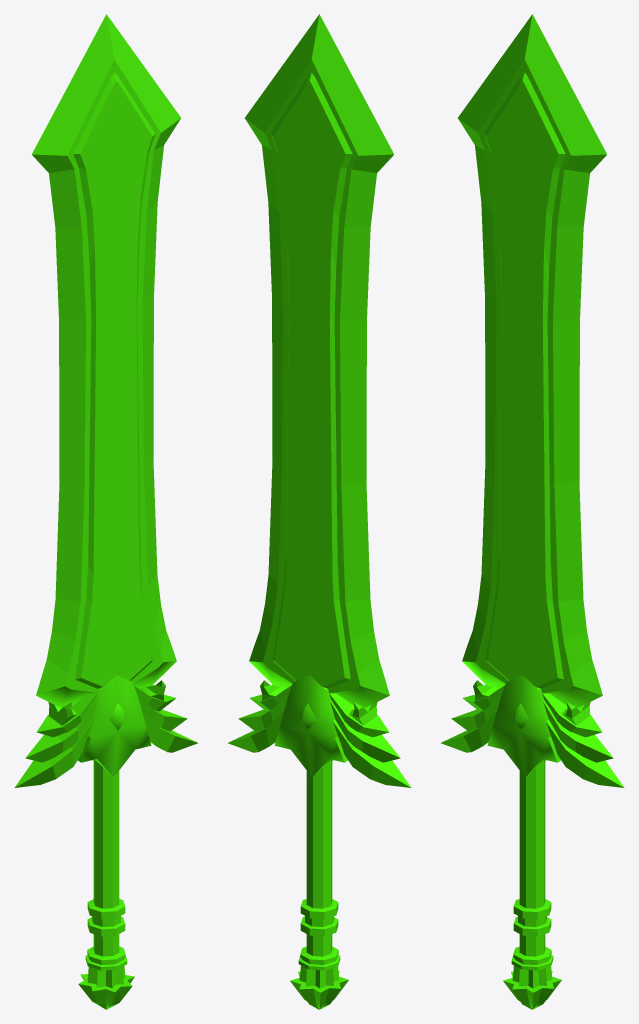
File: pandaSword.fbx
3 renders of one model, left to right at view 1: azimuth 30°, elevation 25°; view 2: azimuth 150°, elevation 25°; view 3: azimuth 330°, elevation 25°, orthographic.
Parts seen in each view (by area): view 1: PandaFreeSword; view 2: PandaFreeSword; view 3: PandaFreeSword.
Boxes of the visible parts, x1=… form: PandaFreeSword: x1=14, y1=14, x2=197, y2=1009; PandaFreeSword: x1=228, y1=14, x2=411, y2=1009; PandaFreeSword: x1=441, y1=14, x2=624, y2=1009.
Size of the model in its own units: 38.55 by 199 by 12.12.
